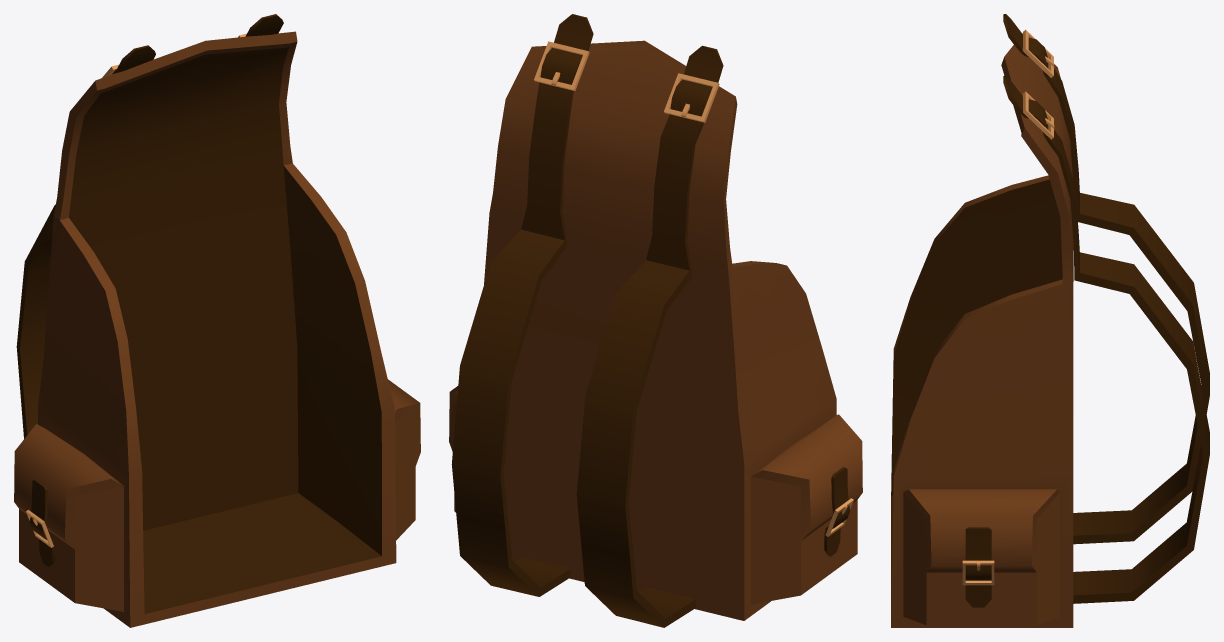
File: backpack.gltf
The picture shows the model from 3 angles, left to right: view 1: azimuth 30°, elevation 25°; view 2: azimuth 150°, elevation 25°; view 3: azimuth 270°, elevation 25°; orthographic projection. The views are drawn at different scales.
Parts seen in each view (by area): view 1: Backpack Inside, Backpack Open, Straps 2; view 2: Backpack Open, Straps 2, Buckles 2; view 3: Backpack Open, Straps 2, Backpack Inside, Buckles 2.
Boxes of the visible parts, x1,y1,x2,y2 form: Backpack Inside: (69,47,381,613); Backpack Open: (14,31,420,627); Straps 2: (16,14,283,567); Backpack Open: (449,40,862,620); Straps 2: (451,14,850,627); Buckles 2: (534,41,853,536); Backpack Open: (891,45,1073,627); Straps 2: (965,14,1209,607); Backpack Inside: (891,179,1062,605); Buckles 2: (962,29,1054,585).
Bounding box in the file's own units: 0.8056 × 1.08 × 0.605.
